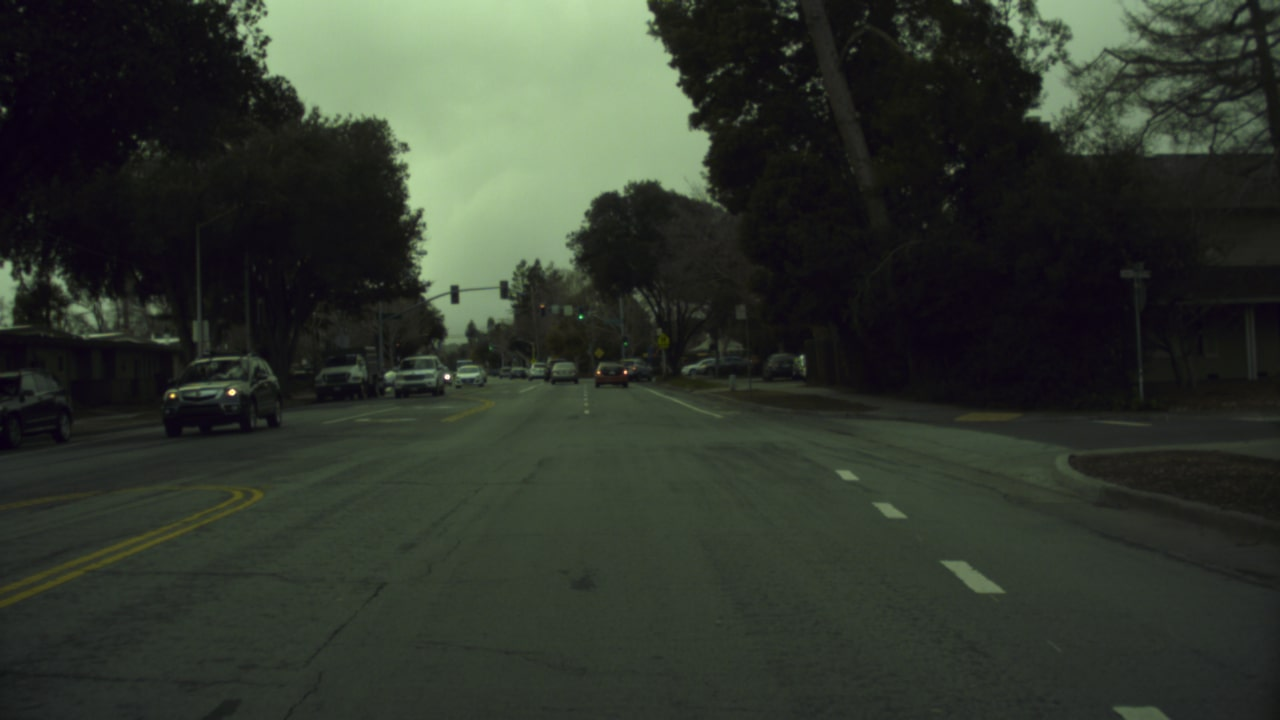signal: (531, 298, 548, 318), (574, 309, 586, 326)
